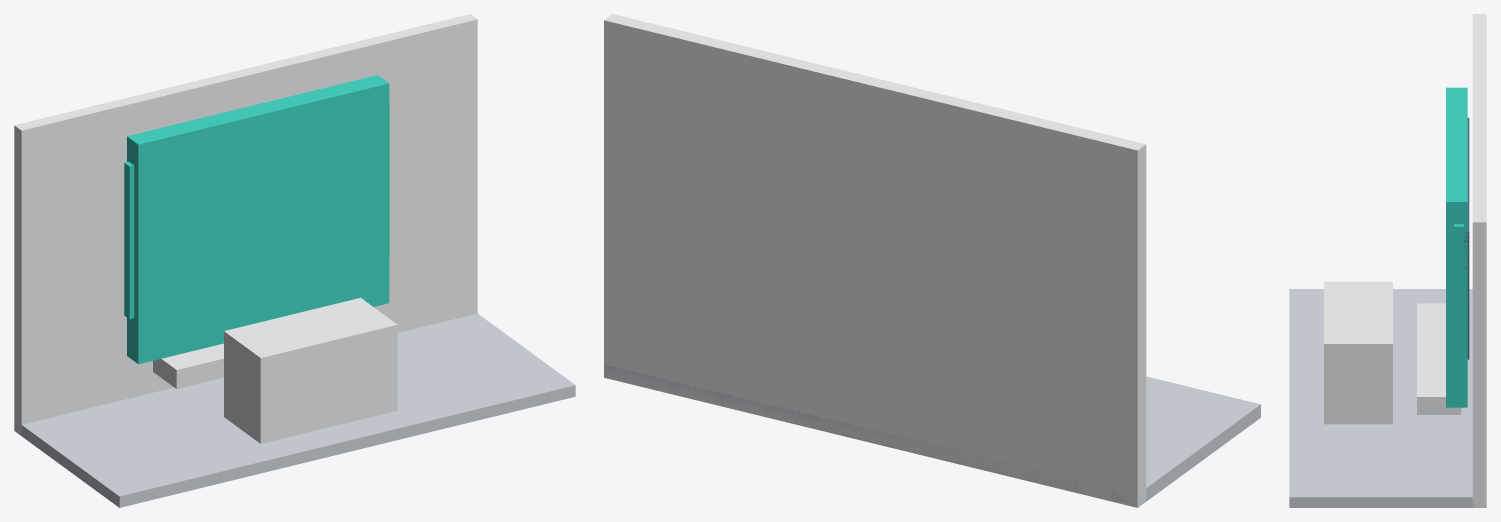
3 views of the same model, side by side, from view 1: azimuth 30°, elevation 25°; view 2: azimuth 150°, elevation 25°; view 3: azimuth 270°, elevation 25° (orthographic). The views are drawn at different scales.
Parts seen in each view (by area): view 1: Exhibition Booth Concept; view 2: Exhibition Booth Concept; view 3: Exhibition Booth Concept.
Part boxes in pixels (box(x1,y1,x2,y2)): Exhibition Booth Concept: box(14, 14, 575, 507); Exhibition Booth Concept: box(604, 14, 1260, 507); Exhibition Booth Concept: box(1289, 14, 1486, 507).
Size of the model in its own units: 5 by 3.2 by 2.
